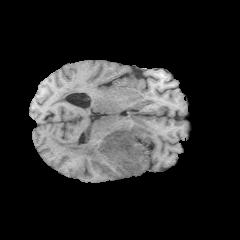glioma: (76, 121, 151, 172)
